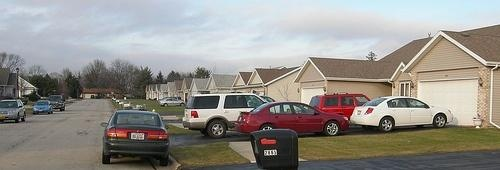car: (235, 101, 350, 137), (183, 93, 271, 139), (101, 110, 171, 167), (352, 95, 454, 133), (309, 95, 373, 119), (1, 99, 27, 126), (160, 97, 185, 109), (34, 101, 53, 116), (50, 97, 65, 112)
